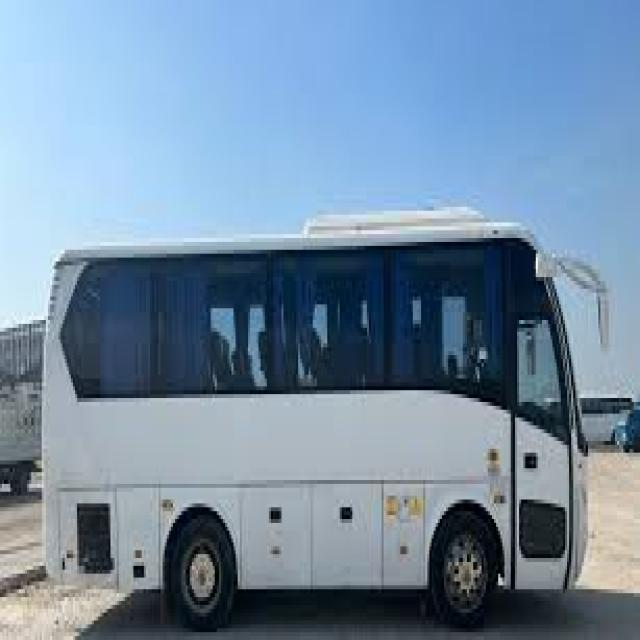bus: (42, 217, 612, 624)
